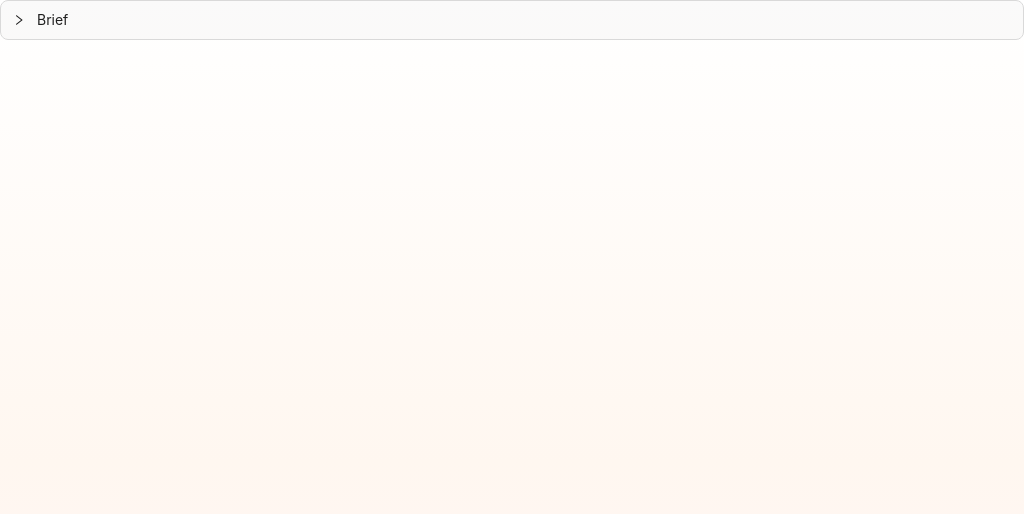
it: BriefFields › expands to the five fields and More
Click the button "Brief".
click(41, 20)  # box [13,11,68,28]
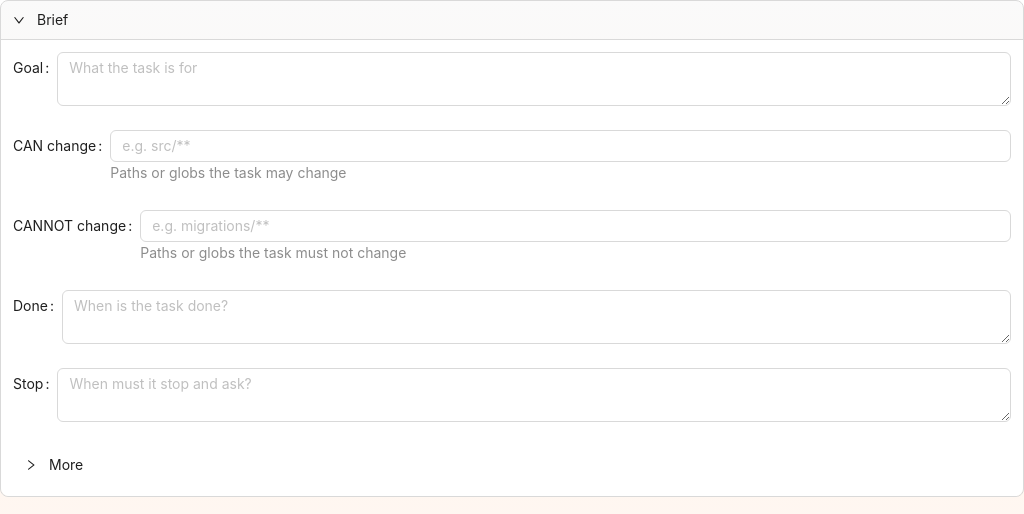
Check: the text "Goal" is shown, box [13,52,57,84]
Check: the text "CAN change" is shown, box [13,130,110,162]
Check: the text "CANNOT change" is shown, box [13,217,126,234]
